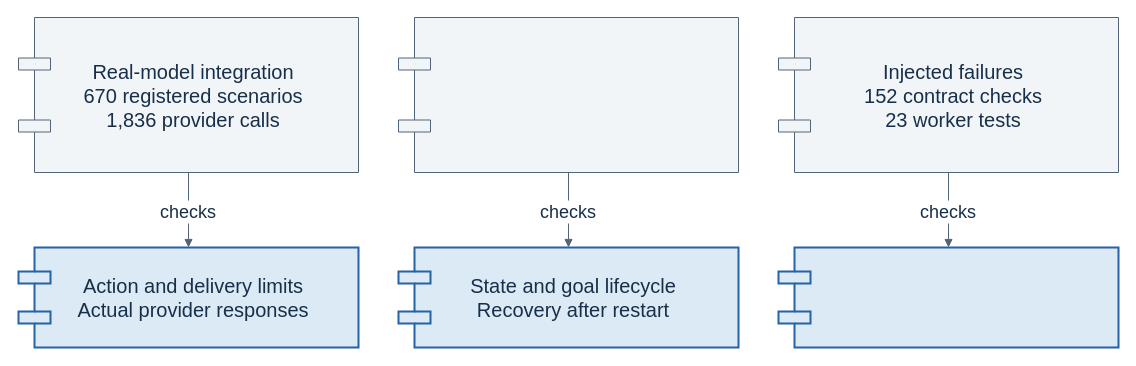
The diagram is 1136 pixels wide and 366 high, and some of its shapes have lost their labels. The shapes that lost their labels are listed below. From the top down, each one's box as (x1, y1, x2, y2) in pixels, then its label:
(398, 16, 738, 172): Continuity over time 7-day: 4 real-model histories 30-day: 72 histories / design
(777, 246, 1119, 348): Withdrawal · restore Retry after a saved delivery
